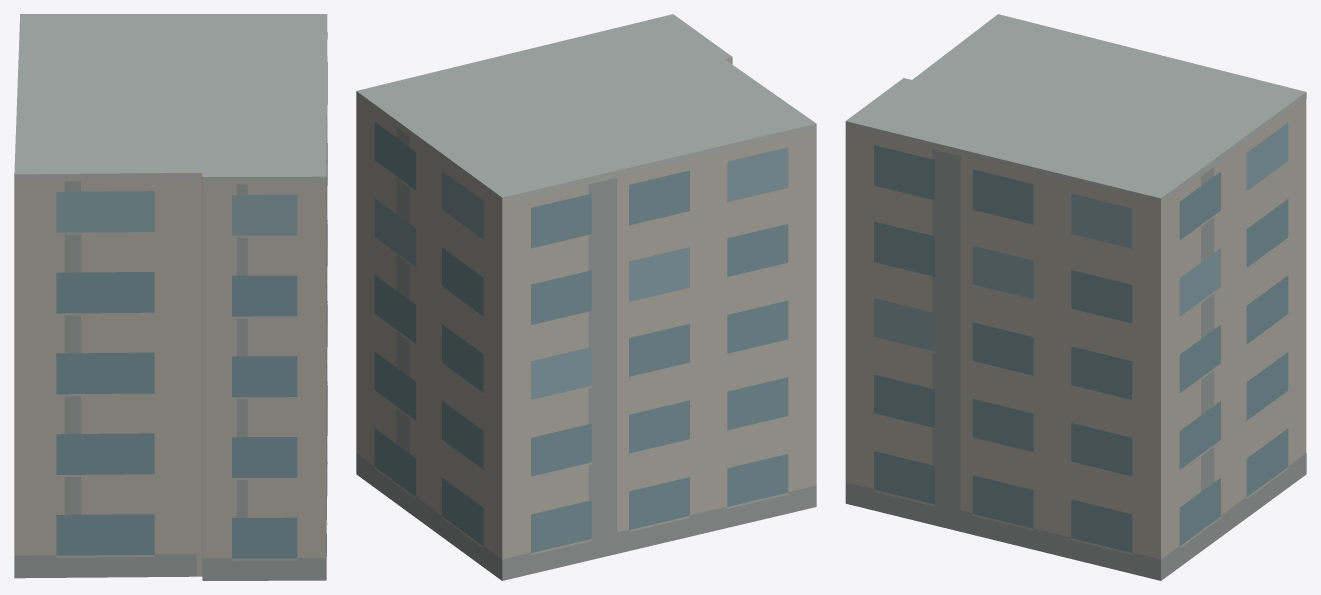
Rendered from survey-upis-32889357.glb.
3 views of the same model, side by side, from view 1: azimuth 30°, elevation 25°; view 2: azimuth 150°, elevation 25°; view 3: azimuth 270°, elevation 25° (orthographic). The views are drawn at different scales.
Parts seen in each view (by area): view 1: survey-upis-32889357.tmp; view 2: survey-upis-32889357.tmp; view 3: survey-upis-32889357.tmp.
Part boxes in pixels (<box>): survey-upis-32889357.tmp: <box>14,14,327,580</box>; survey-upis-32889357.tmp: <box>356,14,816,580</box>; survey-upis-32889357.tmp: <box>845,14,1306,580</box>.
Bounding box in the file's own units: 13.69 × 13.23 × 14.46.
